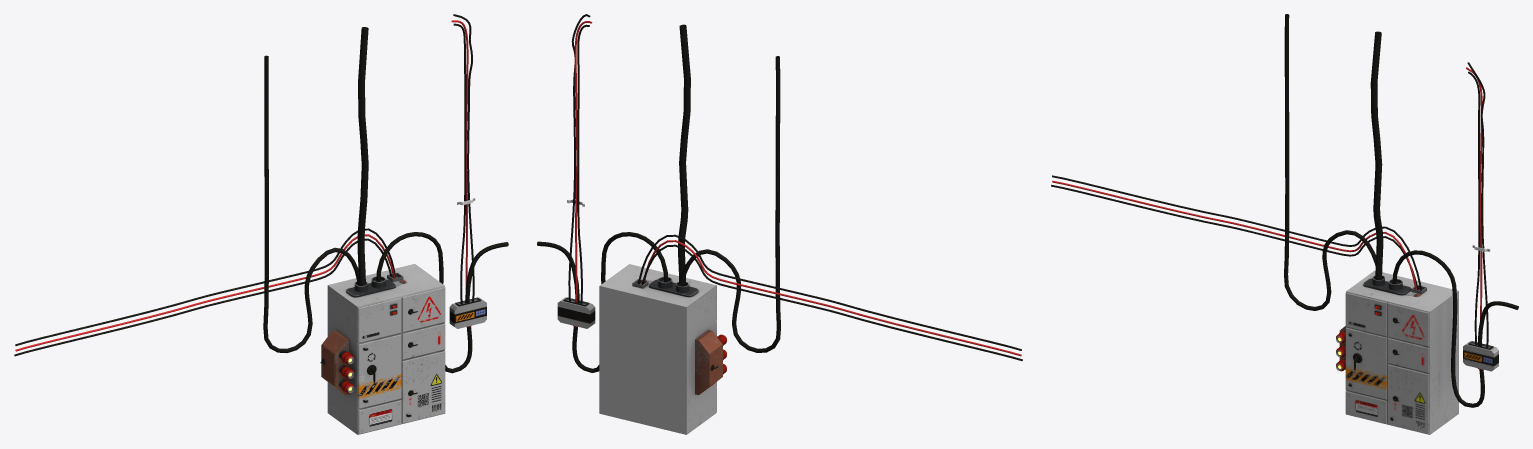
The model's file is electric box.gltf.
3 views of the same model, side by side, from view 1: azimuth 30°, elevation 25°; view 2: azimuth 150°, elevation 25°; view 3: azimuth 330°, elevation 25° (orthographic). The views are drawn at different scales.
Visible parts, largest first — view 1: Object_3, Object_21, Object_22, Object_17, Object_10, Object_13; view 2: Object_3, Object_21, Object_22, Object_17, Object_10, Object_13; view 3: Object_3, Object_21, Object_22, Object_17, Object_13, Object_10.
Boxes of the visible parts, <box> form: Object_3: <box>327,264,445,434</box>; Object_21: <box>14,20,468,356</box>; Object_22: <box>263,14,474,395</box>; Object_17: <box>376,232,508,373</box>; Object_10: <box>449,297,486,328</box>; Object_13: <box>346,276,395,297</box>; Object_3: <box>599,264,716,434</box>; Object_21: <box>574,21,1022,360</box>; Object_22: <box>568,14,780,394</box>; Object_17: <box>537,232,668,372</box>; Object_10: <box>557,297,595,328</box>; Object_13: <box>649,277,698,297</box>; Object_3: <box>1345,270,1458,434</box>; Object_21: <box>1051,31,1482,344</box>; Object_22: <box>1284,14,1488,359</box>; Object_17: <box>1392,250,1518,407</box>; Object_13: <box>1363,275,1411,295</box>; Object_10: <box>1463,341,1498,371</box>.
Bounding box in the file's own units: 11.21 × 8.59 × 1.37.
Materials: 20 (20 with a texture image).
